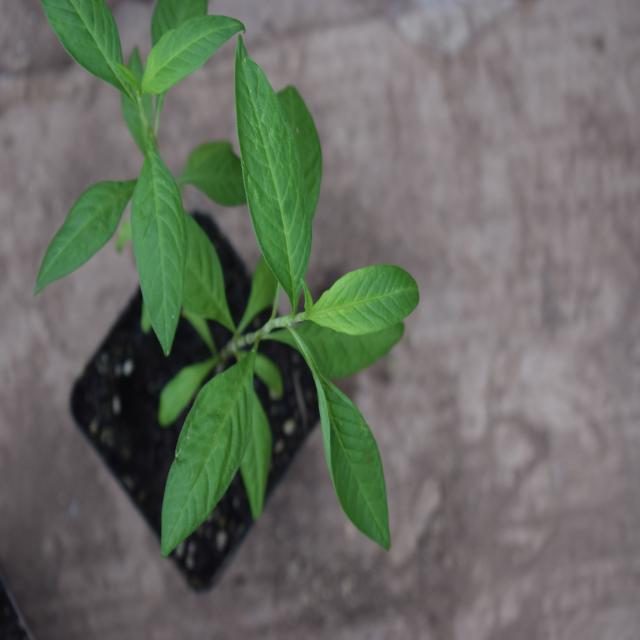white_smart_weed: (185, 39, 452, 589), (30, 0, 246, 320)
